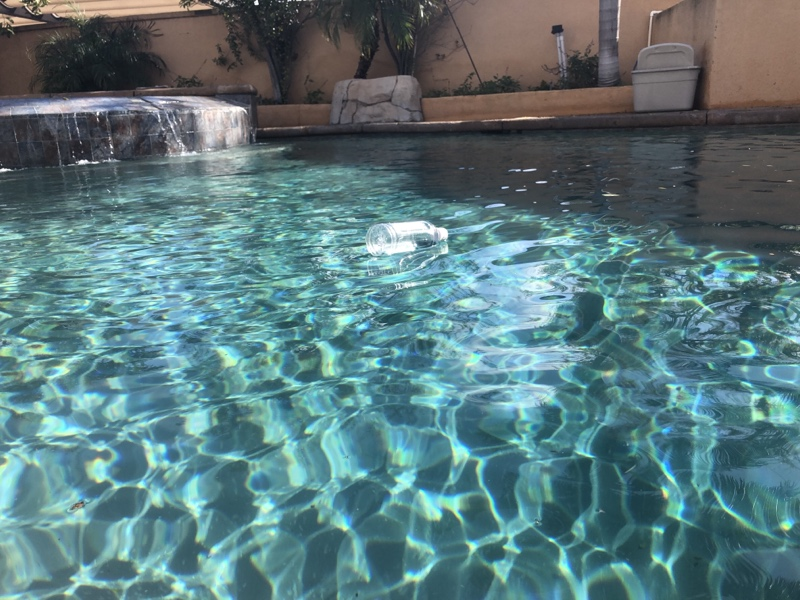Plastic Bottle: (358, 218, 450, 260)
